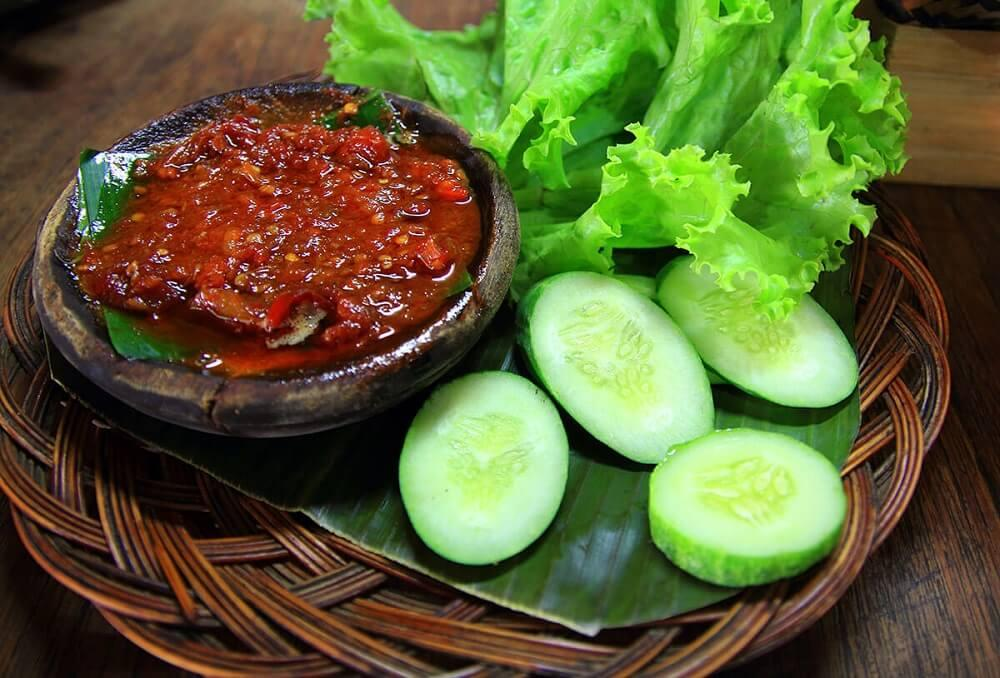buah_sayur_lainnya: (536, 52, 837, 554)
buah_sayur_vitA: (85, 149, 395, 329)
